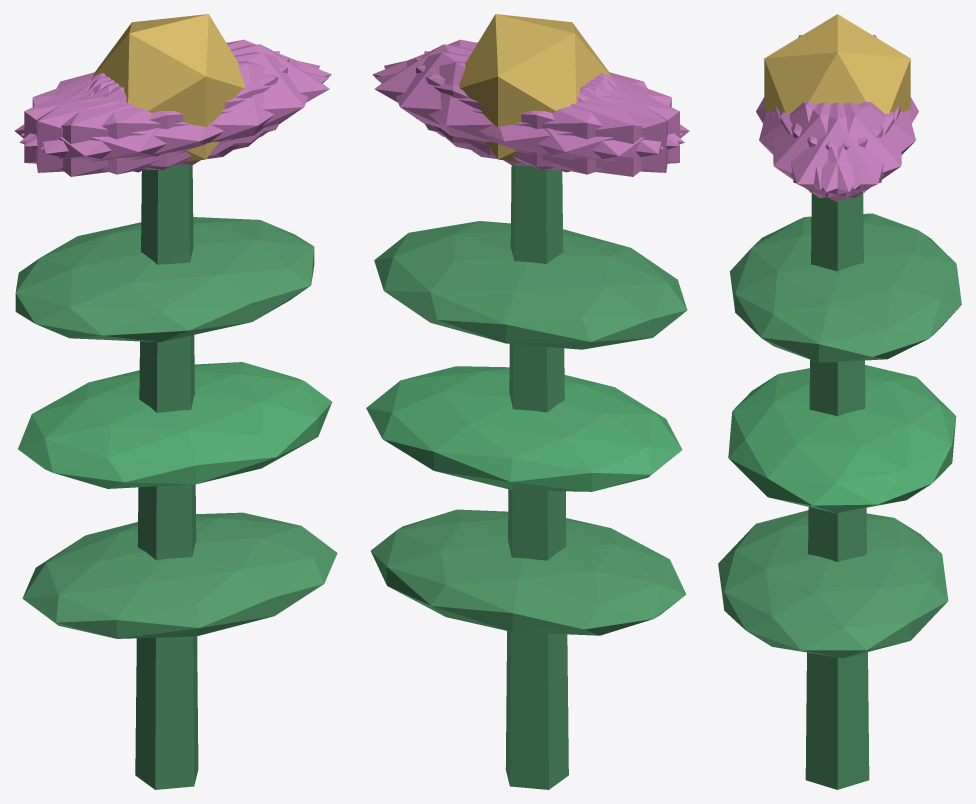
The model's file is picea-abies.glb.
3 renders of one model, left to right at view 1: azimuth 30°, elevation 25°; view 2: azimuth 150°, elevation 25°; view 3: azimuth 270°, elevation 25°, orthographic.
Visible parts, largest first — view 1: leaf0, leaf1, leaf2, stem, center, petal1, petal6, petal2, petal5, petal7, petal0, petal4 (+2 smaller); view 2: leaf2, leaf1, leaf0, stem, center, petal8, petal3, petal7, petal4, petal2, petal0, petal5 (+2 smaller); view 3: leaf1, leaf2, leaf0, stem, center, petal0, petal5, petal4, petal8, petal1.
Boxes of the visible parts, left/top/right/bottom form: leaf0: left=22, top=512, right=337, bottom=638; leaf1: left=18, top=362, right=331, bottom=488; leaf2: left=15, top=217, right=314, bottom=342; stem: left=135, top=165, right=198, bottom=789; center: left=92, top=14, right=245, bottom=161; petal1: left=19, top=61, right=328, bottom=174; petal6: left=14, top=75, right=238, bottom=176; petal2: left=36, top=51, right=279, bottom=172; petal5: left=40, top=52, right=319, bottom=166; petal7: left=24, top=57, right=288, bottom=170; petal0: left=92, top=44, right=329, bottom=155; petal4: left=21, top=39, right=331, bottom=146; leaf2: left=374, top=221, right=687, bottom=349; leaf1: left=366, top=366, right=682, bottom=491; leaf0: left=371, top=509, right=686, bottom=635; stem: left=505, top=165, right=568, bottom=789; center: left=459, top=14, right=611, bottom=161; petal8: left=375, top=61, right=684, bottom=174; petal3: left=465, top=74, right=689, bottom=176; petal7: left=424, top=51, right=667, bottom=172; petal4: left=384, top=52, right=663, bottom=166; petal2: left=415, top=57, right=679, bottom=170; petal0: left=374, top=44, right=611, bottom=155; petal5: left=372, top=39, right=682, bottom=146; leaf1: left=728, top=365, right=956, bottom=513; leaf2: left=730, top=213, right=961, bottom=362; leaf0: left=718, top=510, right=948, bottom=658; stem: left=805, top=193, right=869, bottom=789; center: left=764, top=14, right=910, bottom=113; petal0: left=774, top=102, right=900, bottom=201; petal5: left=773, top=102, right=894, bottom=198; petal4: left=780, top=102, right=901, bottom=198; petal8: left=791, top=102, right=915, bottom=189; petal1: left=759, top=102, right=883, bottom=189.
Size of the model in its own units: 0.1452 by 0.3431 by 0.1021.
